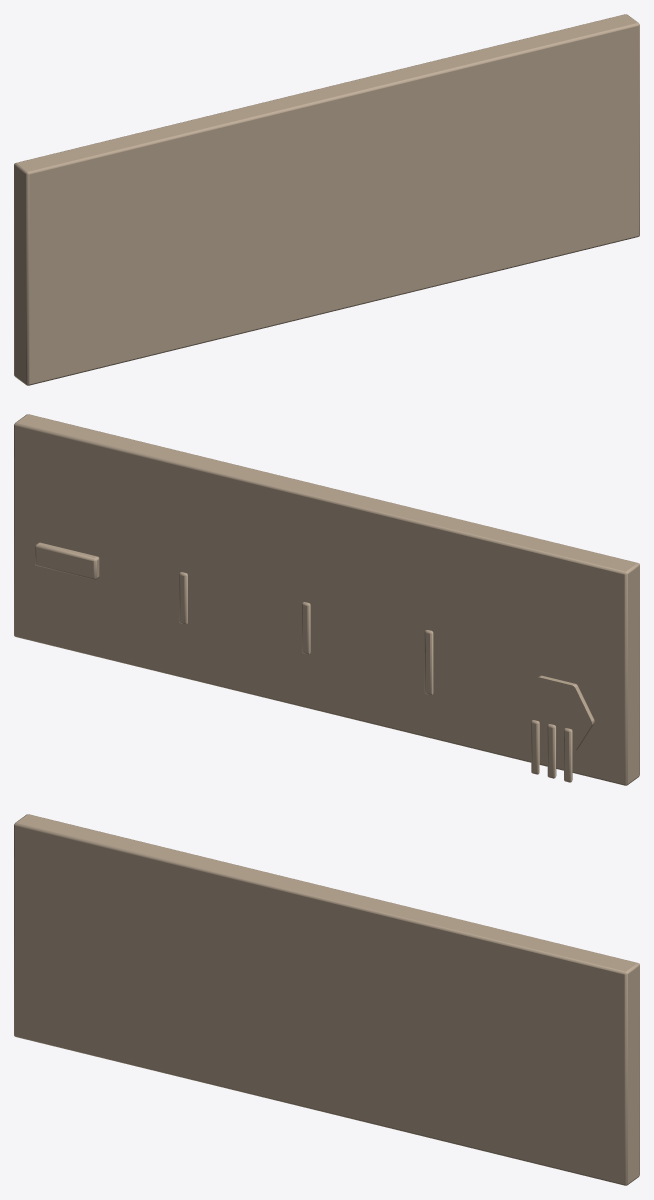
Rendered from MocChiaKhoa.glb.
3 renders of one model, top to bottom at view 1: azimuth 30°, elevation 25°; view 2: azimuth 150°, elevation 25°; view 3: azimuth 330°, elevation 25°, orthographic.
Parts seen in each view (by area): view 1: geometry_0; view 2: geometry_0; view 3: geometry_0.
Part boxes in pixels (x1,y1,x2,y2): geometry_0: (14, 14, 639, 385); geometry_0: (14, 414, 639, 785); geometry_0: (14, 814, 639, 1185).
Bounding box in the file's own units: 0.3 × 0.1 × 0.029.
